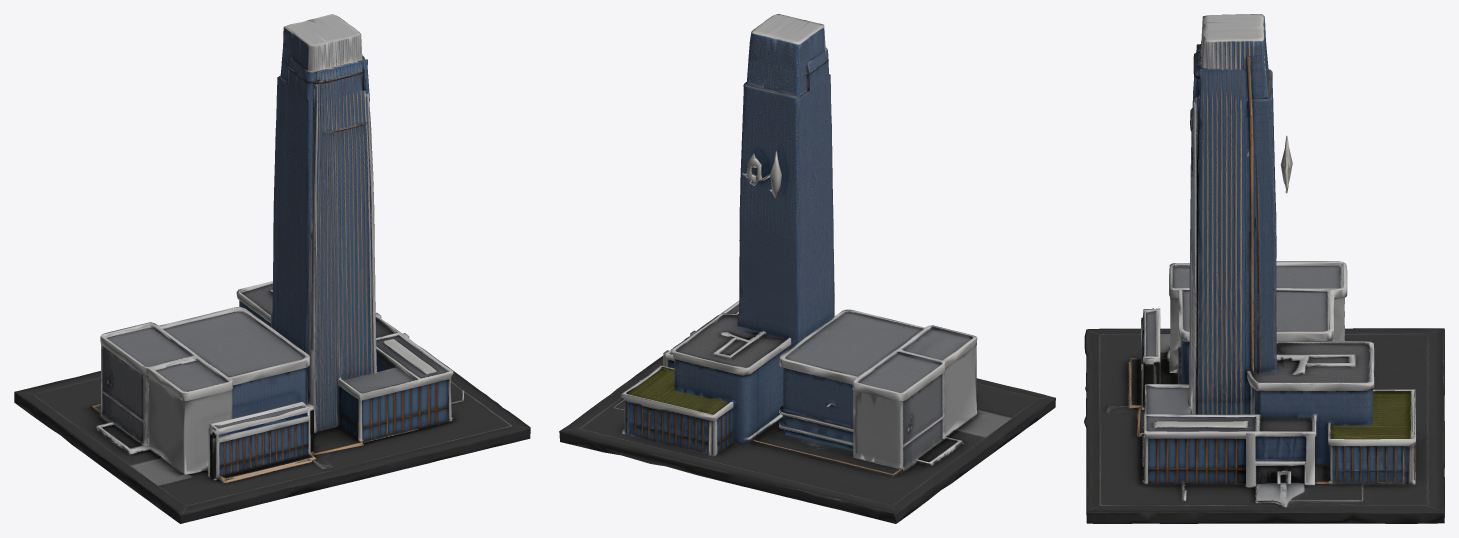
Rendered from PallasAI_Higgsfield_Raw_candidate2.glb.
3 renders of one model, left to right at view 1: azimuth 30°, elevation 25°; view 2: azimuth 150°, elevation 25°; view 3: azimuth 270°, elevation 25°, orthographic. The views are drawn at different scales.
Parts seen in each view (by area): view 1: tripo_node_3254bc49-1bd7-4806-8dd7-df419dd0dcb8; view 2: tripo_node_3254bc49-1bd7-4806-8dd7-df419dd0dcb8; view 3: tripo_node_3254bc49-1bd7-4806-8dd7-df419dd0dcb8.
Boxes of the visible parts, x1,y1,x2,y2 form: tripo_node_3254bc49-1bd7-4806-8dd7-df419dd0dcb8: (14, 14, 530, 523); tripo_node_3254bc49-1bd7-4806-8dd7-df419dd0dcb8: (559, 14, 1055, 523); tripo_node_3254bc49-1bd7-4806-8dd7-df419dd0dcb8: (1084, 14, 1444, 523).
Bounding box in the file's own units: 0.9137 × 0.9788 × 0.754.
Materials: 1 (1 with a texture image).
